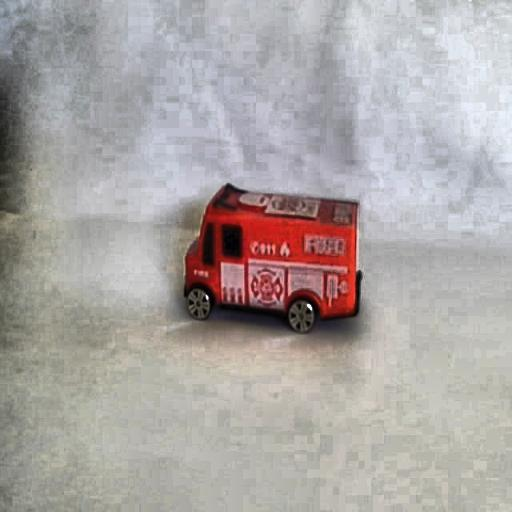fire_truck: (178, 179, 364, 336), (252, 215, 302, 253)
